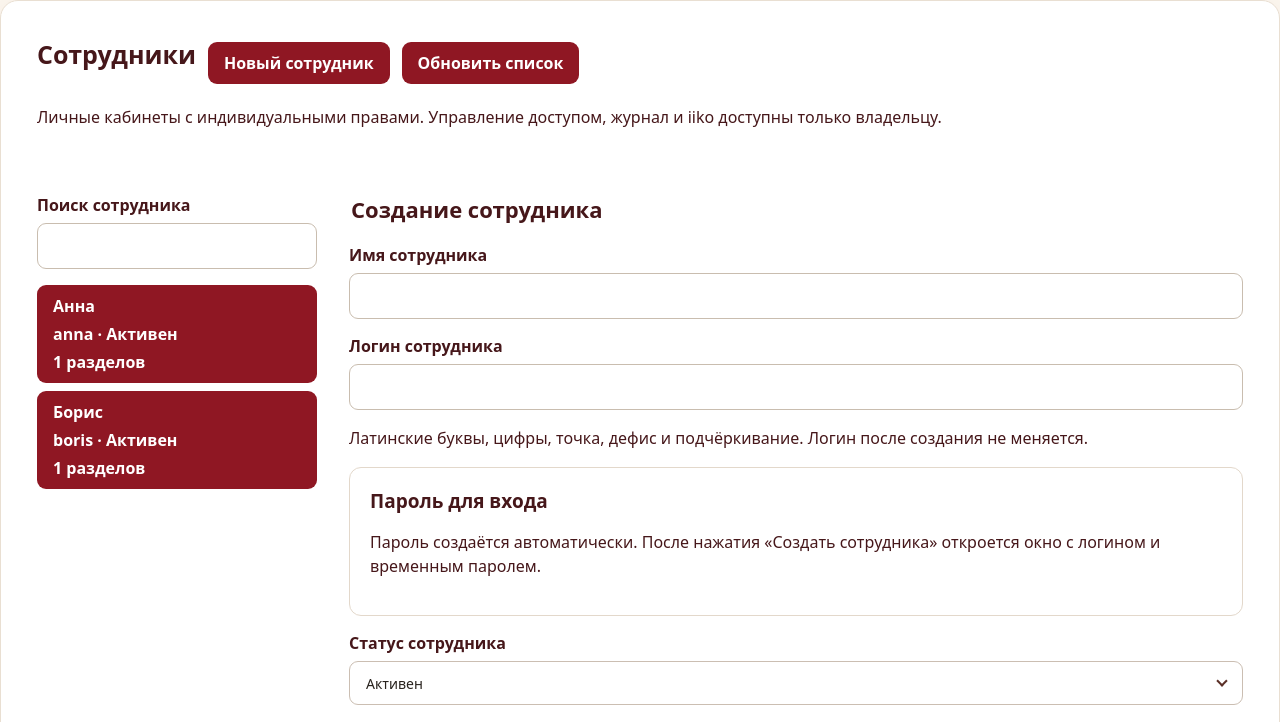
Test: employee search filters by login and a matching record opens with the keyboard
The width and height of the screenshot is (1280, 722).
Expected: the button "Борис boris · Активен 1 разделов" is shown, [37, 391, 317, 489]
Type "BOR" into the search field at (177, 246), box [37, 223, 317, 269]
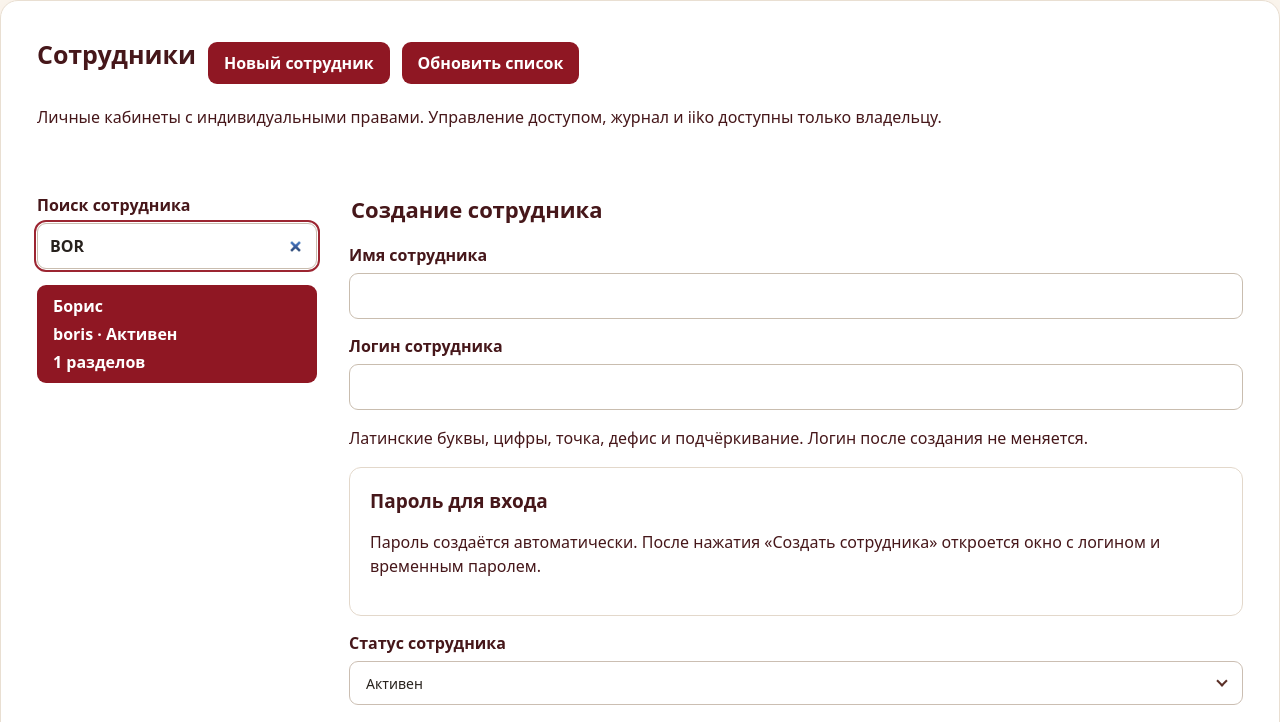
Now the button "Анна anna · Активен 1 разделов" is gone
Press Tab
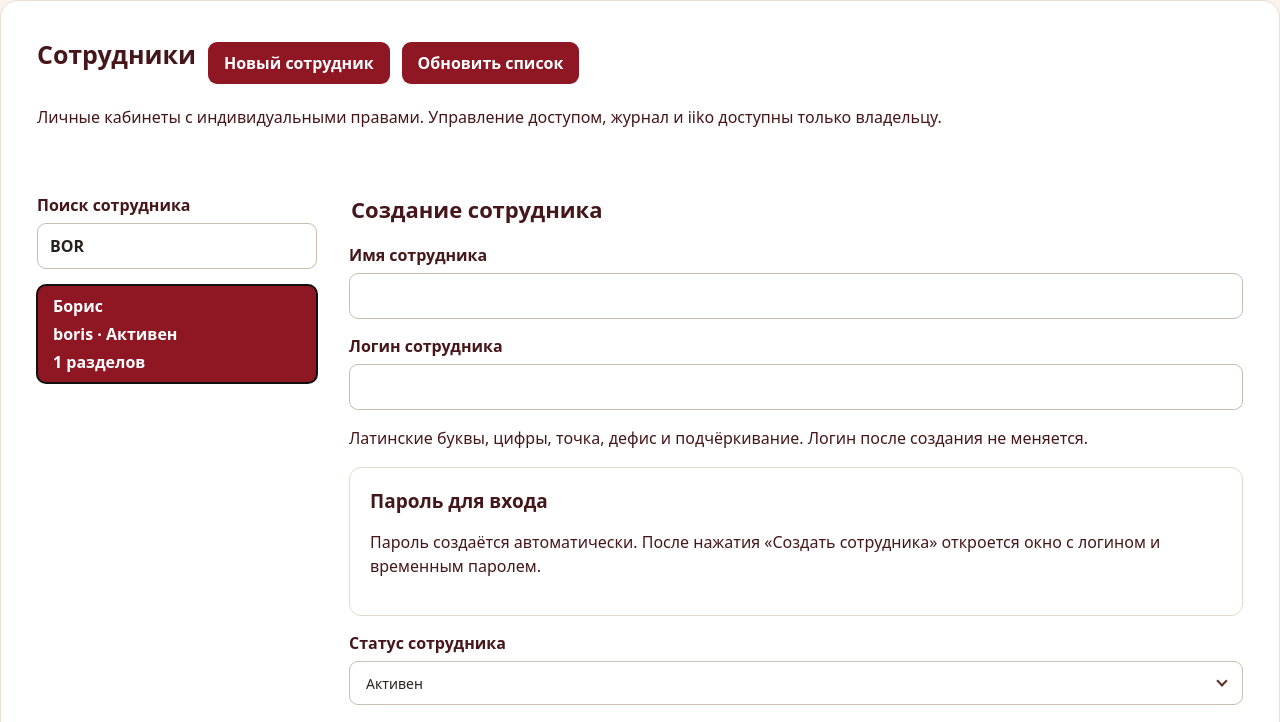
Press Enter
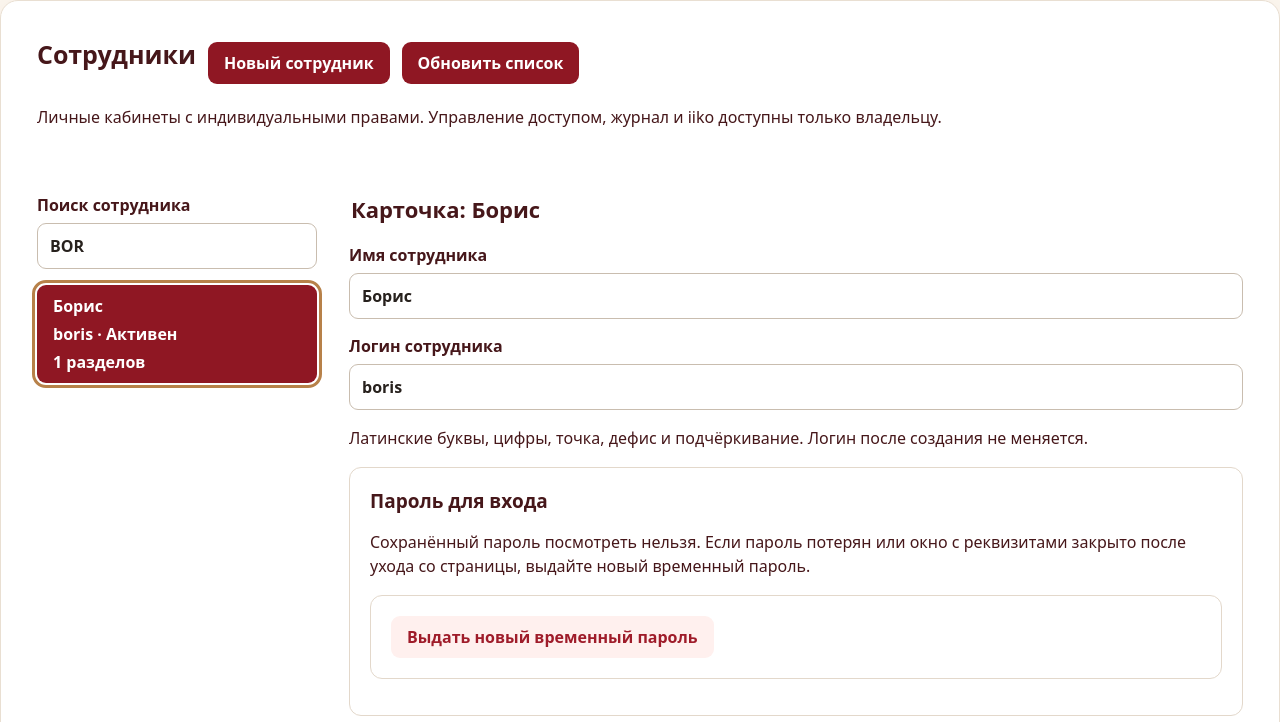
Now the field labelled "Имя сотрудника" holds "Борис", box [349, 273, 1243, 319]
Now the field labelled "Логин сотрудника" holds "boris", box [349, 364, 1243, 410]
Now the field labelled "Логин сотрудника" is disabled, box [349, 364, 1243, 410]
